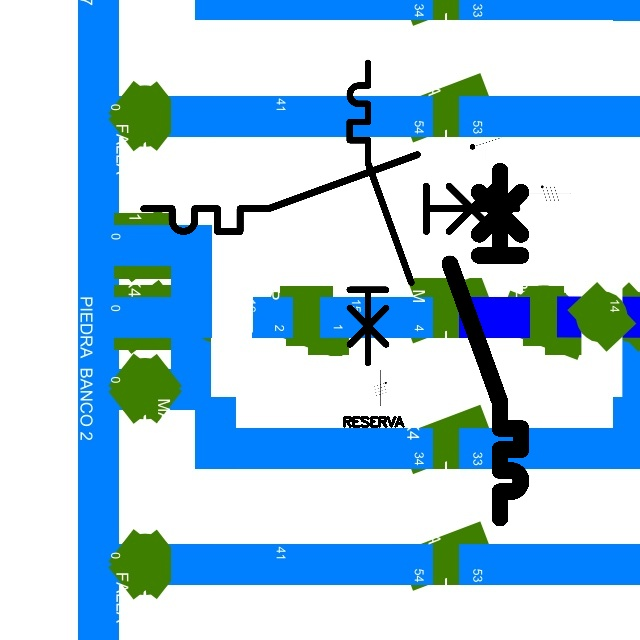interruptor_termomagnetico: (134, 145, 527, 241), (441, 162, 530, 527), (342, 55, 419, 370)
